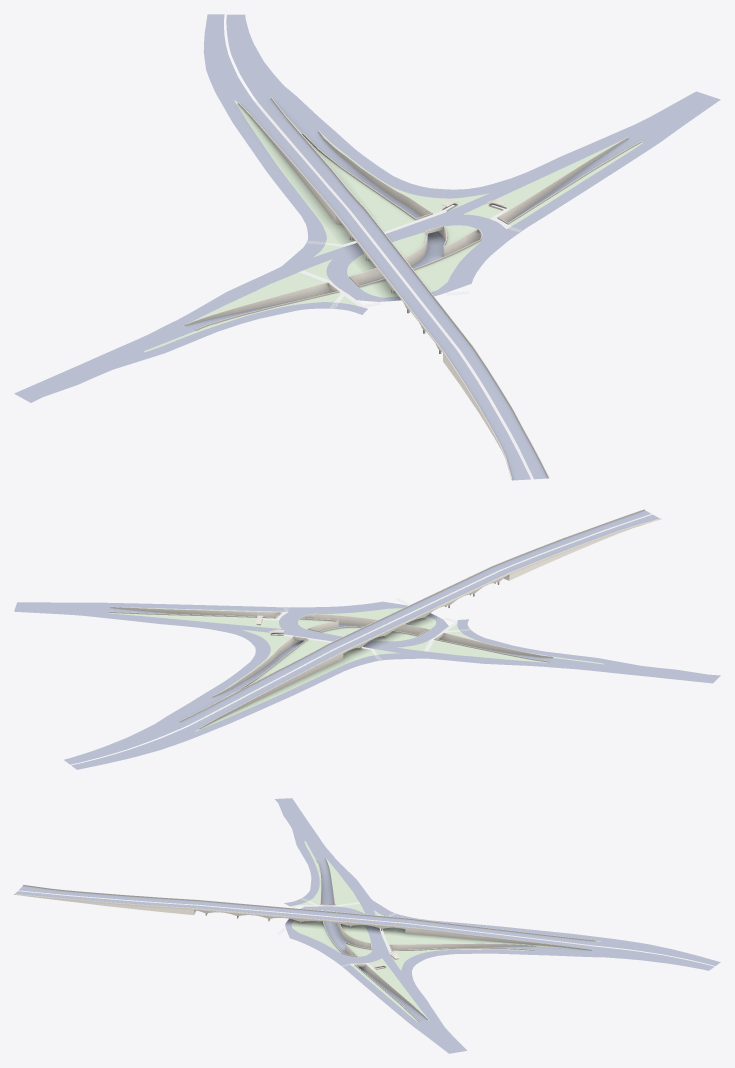
Rendered from VOAD-halilulina.glb.
3 views of the same model, one above another, from view 1: azimuth 30°, elevation 25°; view 2: azimuth 150°, elevation 25°; view 3: azimuth 270°, elevation 25° (orthographic). The views are drawn at different scales.
Visible parts, largest first — view 1: group_3, group_4.003, group_2, group_1, group_6.002; view 2: group_3, group_4.003, group_2, group_1, group_6.002; view 3: group_3, group_4.003, group_1, group_2, group_6.002.
Boxes of the visible parts, x1,y1,x2,y2 form: group_3: (14,14,720,480); group_4.003: (143,100,642,352); group_2: (184,130,641,330); group_1: (238,97,549,480); group_6.002: (254,101,533,479); group_3: (14,510,720,769); group_4.003: (108,607,604,731); group_2: (108,606,553,699); group_1: (179,509,661,728); group_6.002: (188,514,652,725); group_3: (15,798,720,1053); group_4.003: (291,841,600,1021); group_1: (14,884,595,950); group_2: (315,858,536,1021); group_6.002: (18,890,593,970).
Bounding box in the file's own units: 616 × 15 × 720.
5 materials, 3 textured.
